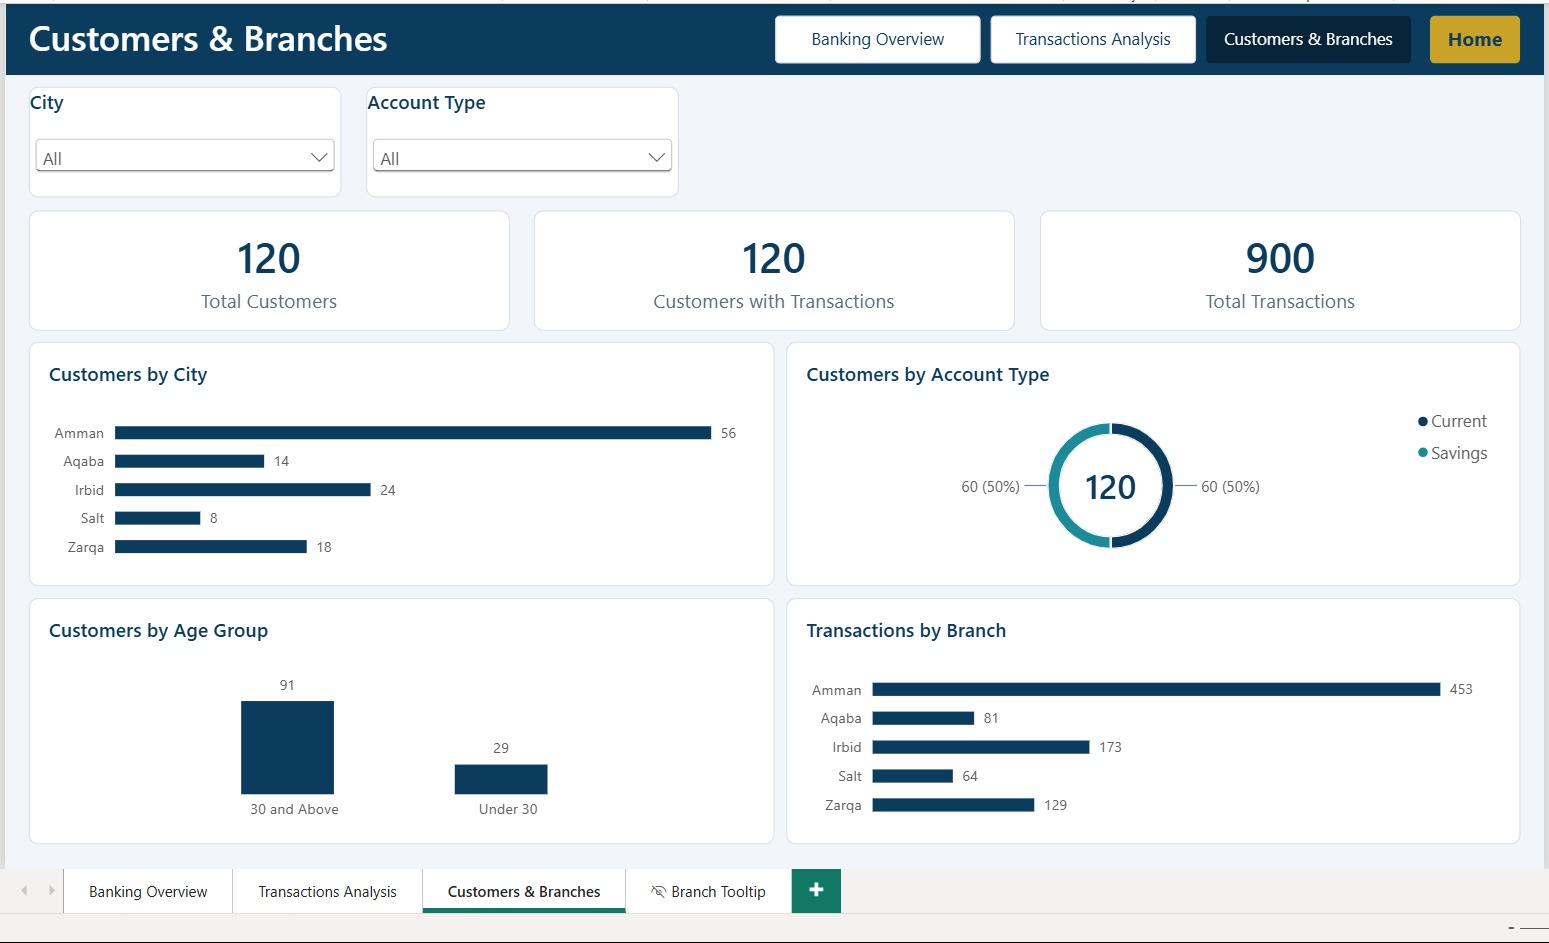

This screenshot's page, from the dashboard's own definition file:
{"tool":"powerbi","page":{"name":"Customers & Branches","canvas":[1280,720],"ordinal":2},"visuals":[{"type":"textbox","box":[0,0,1280,60],"z":0},{"type":"textbox","box":[20,8,610,44],"z":1},{"type":"pageNavigator","box":[640,10,530,40],"z":2},{"type":"actionButton","box":[1185,10,75,40],"z":3},{"type":"slicer","title":"City","fields":{"Values":["Customers.City"]},"box":[20,70,260,92],"z":4},{"type":"slicer","title":"Account Type","fields":{"Values":["Customers.AccountType"]},"box":[300,70,260,92],"z":5},{"type":"card","fields":{"Values":["Transactions.Total Customers"]},"box":[20,172,400,100],"z":6},{"type":"card","fields":{"Values":["Transactions.Customers with Transactions"]},"box":[440,172,400,100],"z":7},{"type":"card","fields":{"Values":["Transactions.Total Transactions"]},"box":[860,172,400,100],"z":8},{"type":"barChart","title":"Customers by City","fields":{"Category":["Customers.City"],"Y":["Transactions.Total Customers"]},"box":[20,282,620,203],"z":9},{"type":"donutChart","title":"Customers by Account Type","fields":{"Category":["Customers.AccountType"],"Y":["Transactions.Total Customers"]},"box":[650,282,610,203],"z":10},{"type":"columnChart","title":"Customers by Age Group","fields":{"Category":["Customers.Age Group"],"Y":["Transactions.Total Customers"]},"box":[20,495,620,205],"z":11},{"type":"barChart","title":"Transactions by Branch","fields":{"Category":["Transactions.Branch"],"Y":["Transactions.Total Transactions"]},"box":[650,495,610,205],"z":12}]}

Visuals, with their boxes on the page's 1280x720 design canvas (x1, y1, x2, y2). These are canvas units, not pixel positions in the 1549x943 screenshot, which may show the page scaled, cropped or inside an application window:
textbox: {"left": 0, "top": 0, "right": 1280, "bottom": 60}
textbox: {"left": 20, "top": 8, "right": 630, "bottom": 52}
pageNavigator: {"left": 640, "top": 10, "right": 1170, "bottom": 50}
actionButton: {"left": 1185, "top": 10, "right": 1260, "bottom": 50}
"City" slicer: {"left": 20, "top": 70, "right": 280, "bottom": 162}
"Account Type" slicer: {"left": 300, "top": 70, "right": 560, "bottom": 162}
card - Transactions.Total Customers: {"left": 20, "top": 172, "right": 420, "bottom": 272}
card - Transactions.Customers with Transactions: {"left": 440, "top": 172, "right": 840, "bottom": 272}
card - Transactions.Total Transactions: {"left": 860, "top": 172, "right": 1260, "bottom": 272}
"Customers by City" barChart: {"left": 20, "top": 282, "right": 640, "bottom": 485}
"Customers by Account Type" donutChart: {"left": 650, "top": 282, "right": 1260, "bottom": 485}
"Customers by Age Group" columnChart: {"left": 20, "top": 495, "right": 640, "bottom": 700}
"Transactions by Branch" barChart: {"left": 650, "top": 495, "right": 1260, "bottom": 700}
